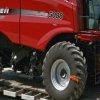Tractor: (10, 4, 100, 99)
